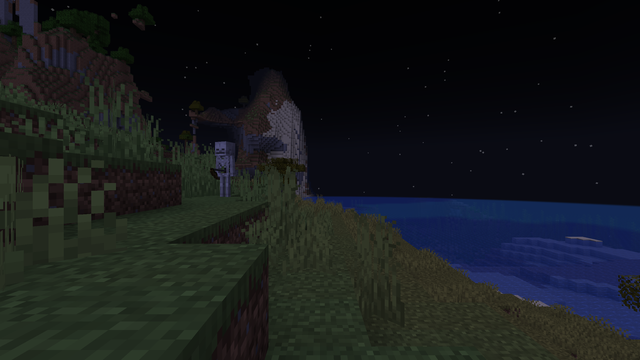squelettes: (213, 141, 235, 196)
